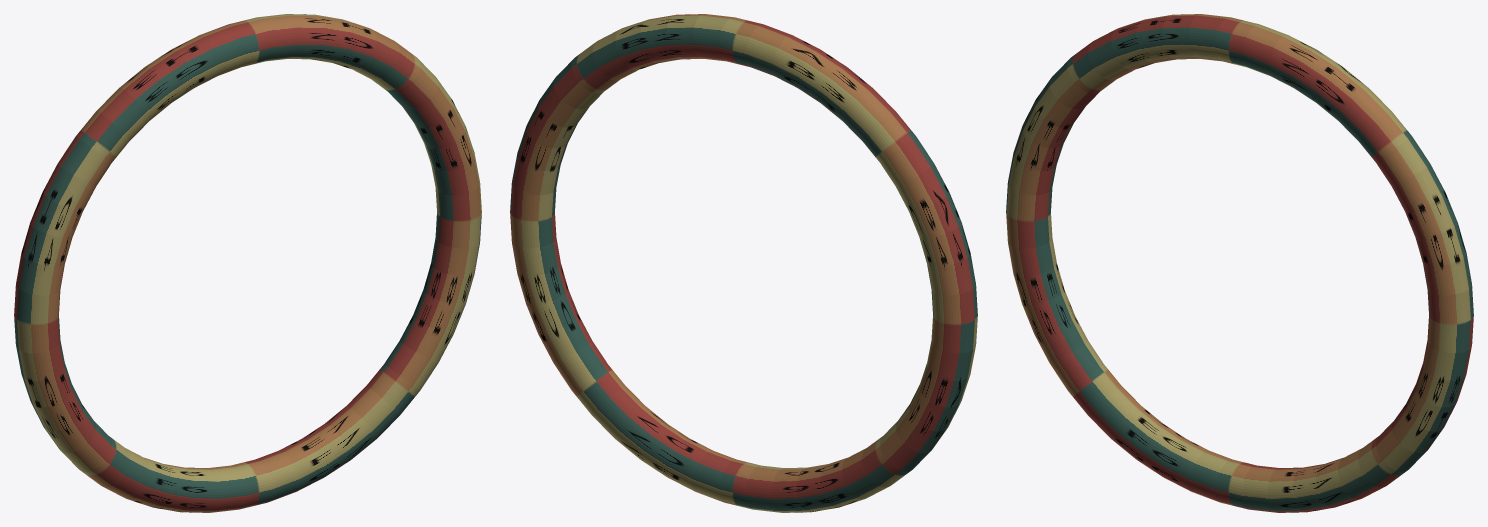
The model's file is texture_torus_R22_r1.glb.
3 views of the same model, side by side, from view 1: azimuth 30°, elevation 25°; view 2: azimuth 150°, elevation 25°; view 3: azimuth 330°, elevation 25° (orthographic).
Parts seen in each view (by area): view 1: world; view 2: world; view 3: world.
Part boxes in pixels (box(x1,y1,x2,y2)): world: box(14, 14, 481, 512); world: box(510, 14, 977, 512); world: box(1006, 14, 1473, 512).
Size of the model in its own units: 26.93 by 26.88 by 2.26.
1 material, 1 textured.
